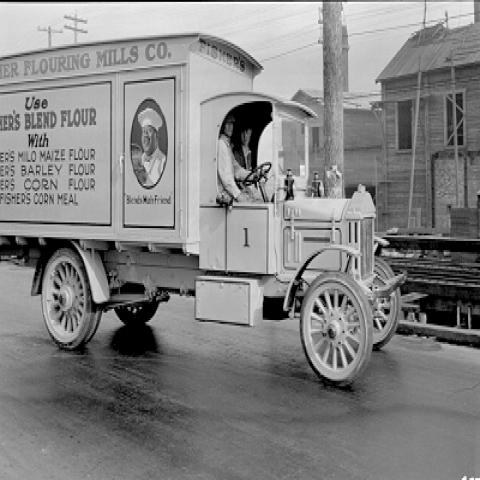truck: (0, 34, 407, 387)
